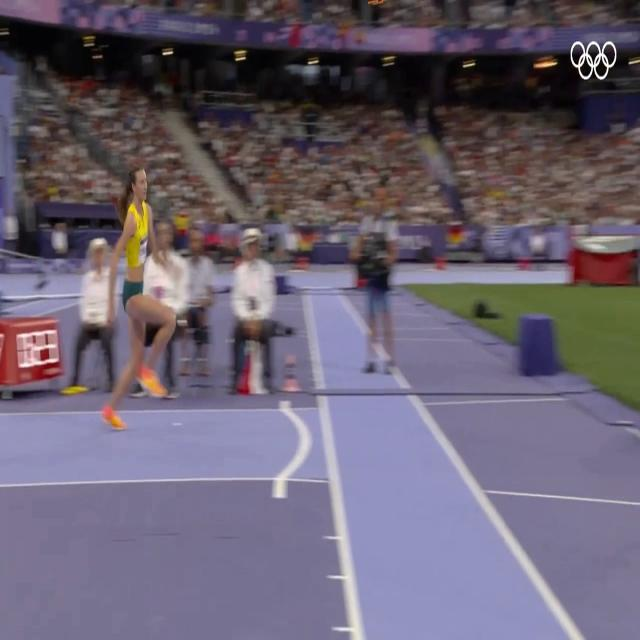run: (106, 169, 176, 427)
